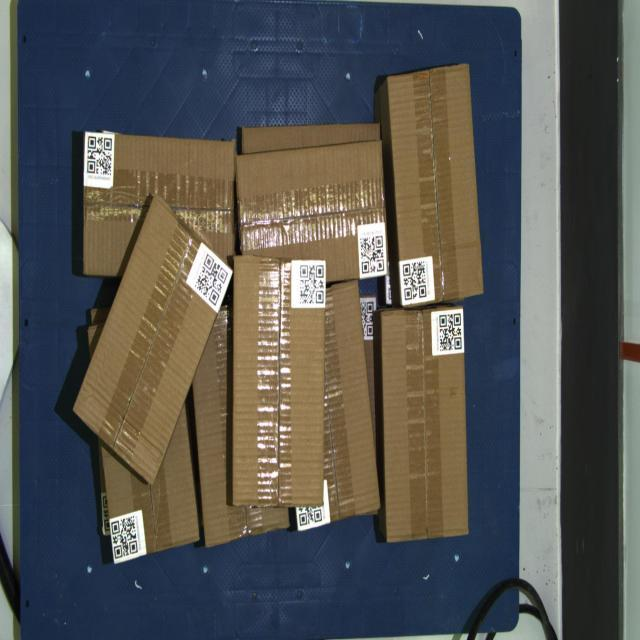box: (72, 195, 234, 486), (387, 63, 484, 309), (233, 256, 326, 506), (236, 140, 389, 282), (381, 306, 469, 544)
